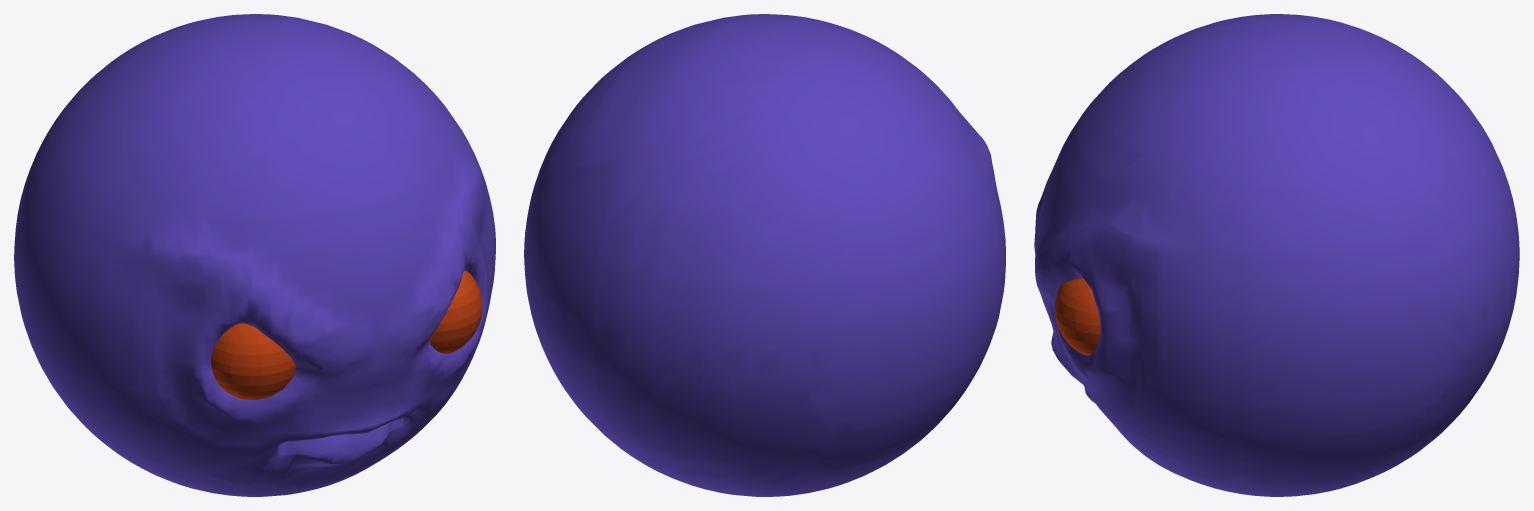
The model's file is thopra.fbx.
3 views of the same model, side by side, from view 1: azimuth 30°, elevation 25°; view 2: azimuth 150°, elevation 25°; view 3: azimuth 270°, elevation 25° (orthographic).
Visible parts, largest first — view 1: PM3D_Sphere3D, PolySphere1; view 2: PM3D_Sphere3D; view 3: PM3D_Sphere3D, PolySphere1.
Part boxes in pixels (bbox=[...]): PM3D_Sphere3D: bbox=[14, 14, 495, 496]; PolySphere1: bbox=[211, 270, 482, 399]; PM3D_Sphere3D: bbox=[524, 14, 1005, 496]; PM3D_Sphere3D: bbox=[1034, 14, 1519, 496]; PolySphere1: bbox=[1055, 278, 1100, 355].
Size of the model in its own units: 7.33 by 7.33 by 7.37.
